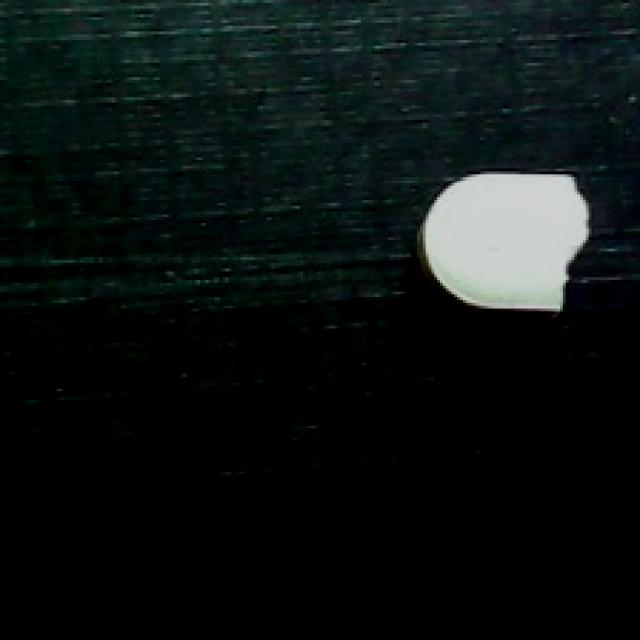defected: (411, 151, 600, 329)
